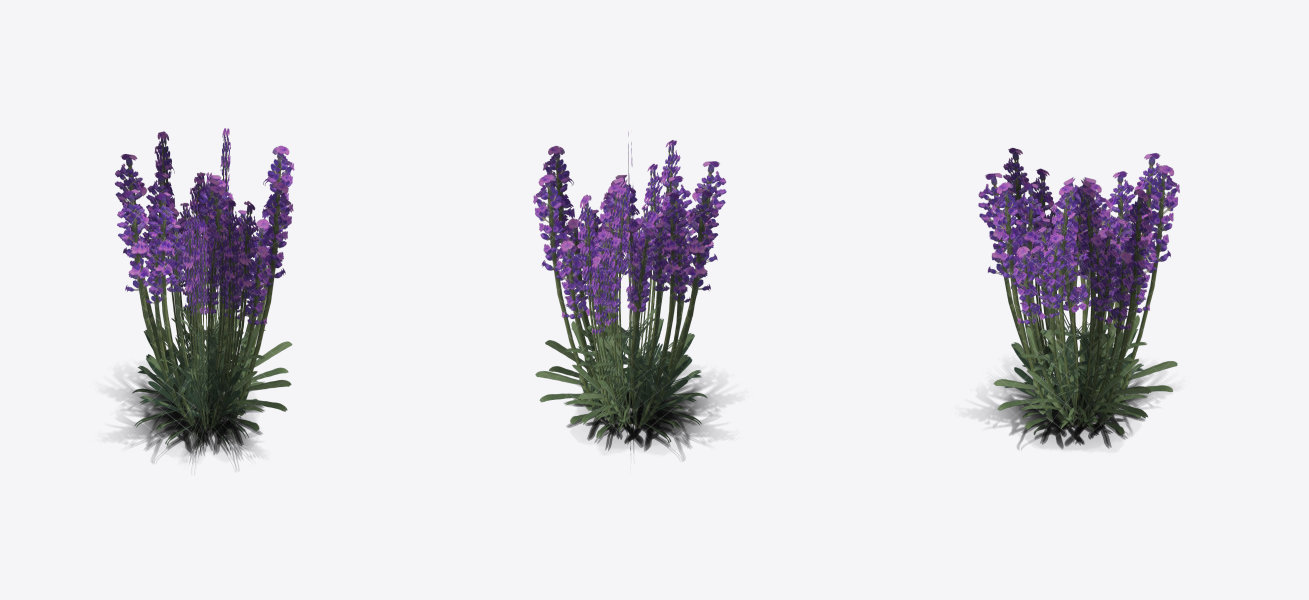
The model's file is lavender.glb.
3 renders of one model, left to right at view 1: azimuth 30°, elevation 25°; view 2: azimuth 150°, elevation 25°; view 3: azimuth 270°, elevation 25°, orthographic.
Visible parts, largest first — view 1: Plane.003; view 2: Plane.003; view 3: Plane.003.
Boxes of the visible parts, bbox=[...] form: Plane.003: bbox=[114, 128, 294, 466]; Plane.003: bbox=[533, 132, 726, 460]; Plane.003: bbox=[978, 148, 1179, 449].
Bounding box in the file's own units: 2 × 2 × 2.
Materials: 1 (1 with a texture image).
